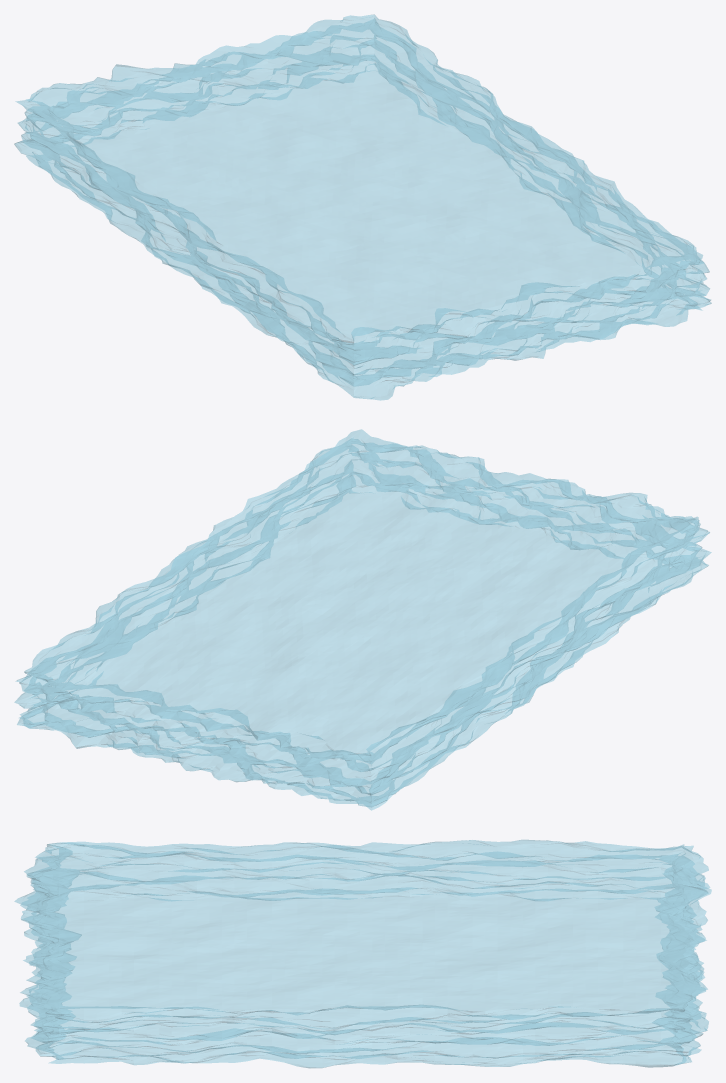
The model's file is lake.glb.
3 views of the same model, one above another, from view 1: azimuth 30°, elevation 25°; view 2: azimuth 150°, elevation 25°; view 3: azimuth 270°, elevation 25° (orthographic). The views are drawn at different scales.
Visible parts, largest first — view 1: lake; view 2: lake; view 3: lake.
Boxes of the visible parts, x1,y1,x2,y2 form: lake: (14,14,711,400); lake: (14,429,711,810); lake: (14,839,711,1068).
Size of the model in its own units: 5.01 by 0.7741 by 8.15.
